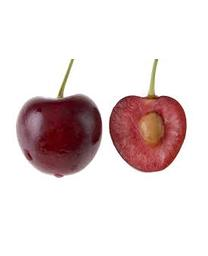cherry: (16, 94, 102, 177), (109, 96, 187, 173)
